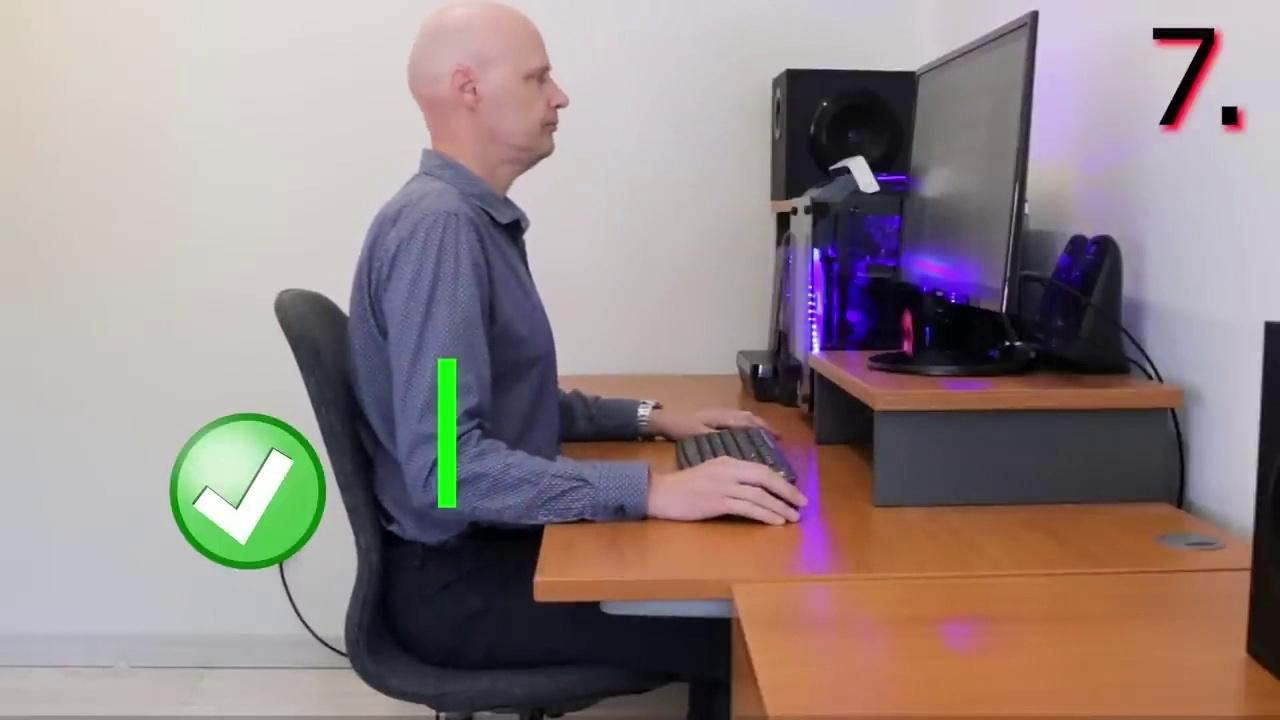GoodPosture: (347, 1, 806, 719), (348, 0, 806, 719)
